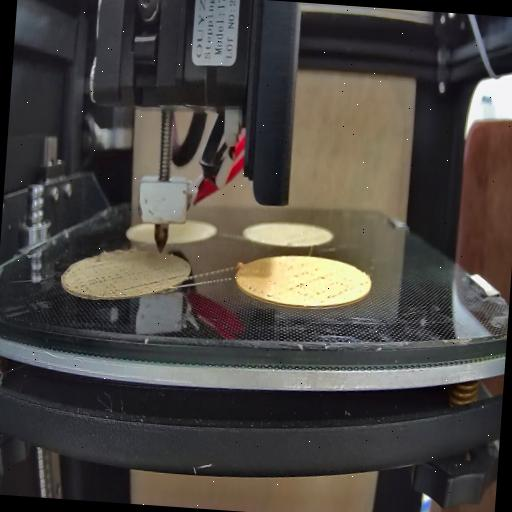under_extrusion: (70, 254, 184, 298), (287, 261, 366, 305), (250, 272, 276, 302)
